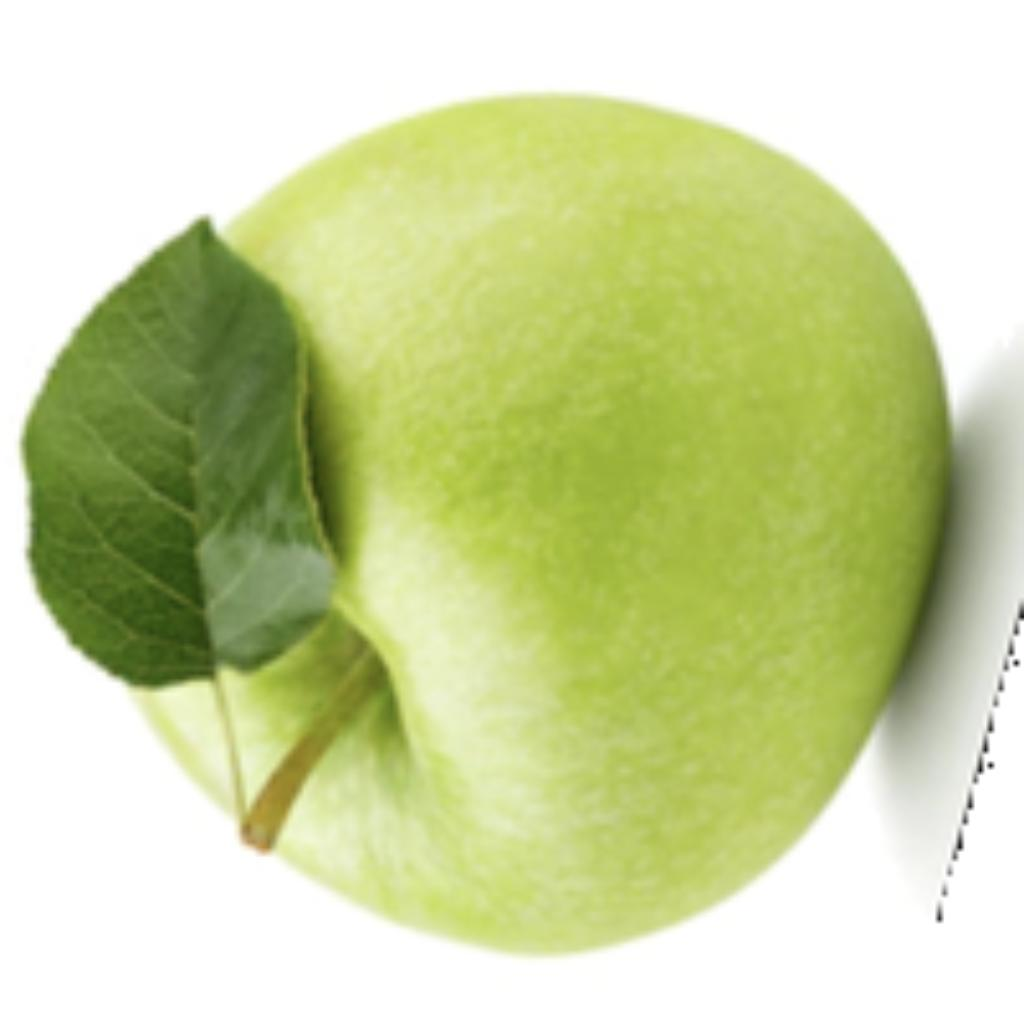apple: (10, 82, 1019, 963)
